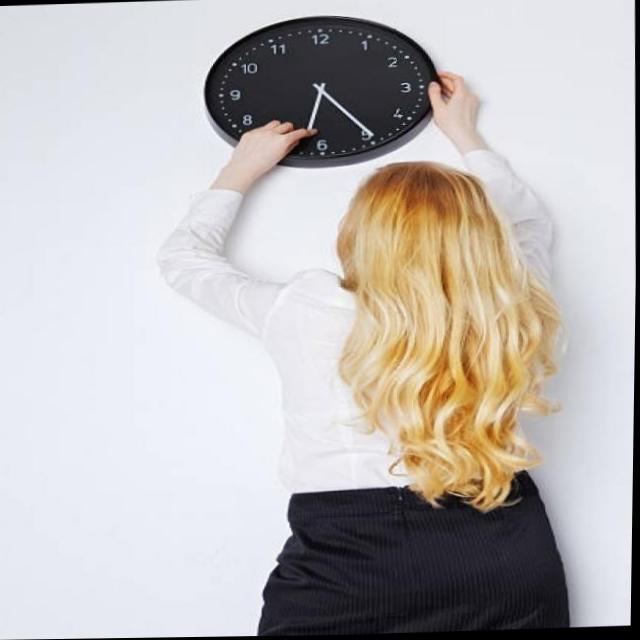no helmet: (296, 153, 561, 350)
